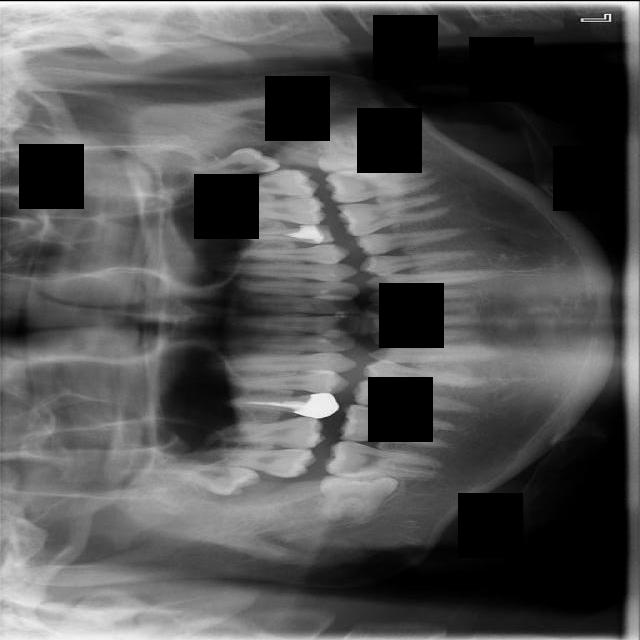3M ESPE Implant: (152, 458, 262, 498)
52: (292, 391, 340, 418), (312, 292, 360, 316), (313, 278, 360, 301), (311, 314, 360, 336), (311, 333, 355, 352), (298, 222, 335, 244)
73: (225, 394, 304, 413), (619, 5, 629, 16)
BioHorizons Implant: (196, 166, 320, 198)
BioLife Implant: (183, 143, 282, 182)
Biomet 3i Implant: (317, 125, 398, 182)
Blue Sky Bio Implant: (323, 164, 439, 203)
Caries: (193, 446, 319, 478)
Implant: (323, 439, 444, 480)
Keystone Dental Implant: (318, 469, 400, 522)
